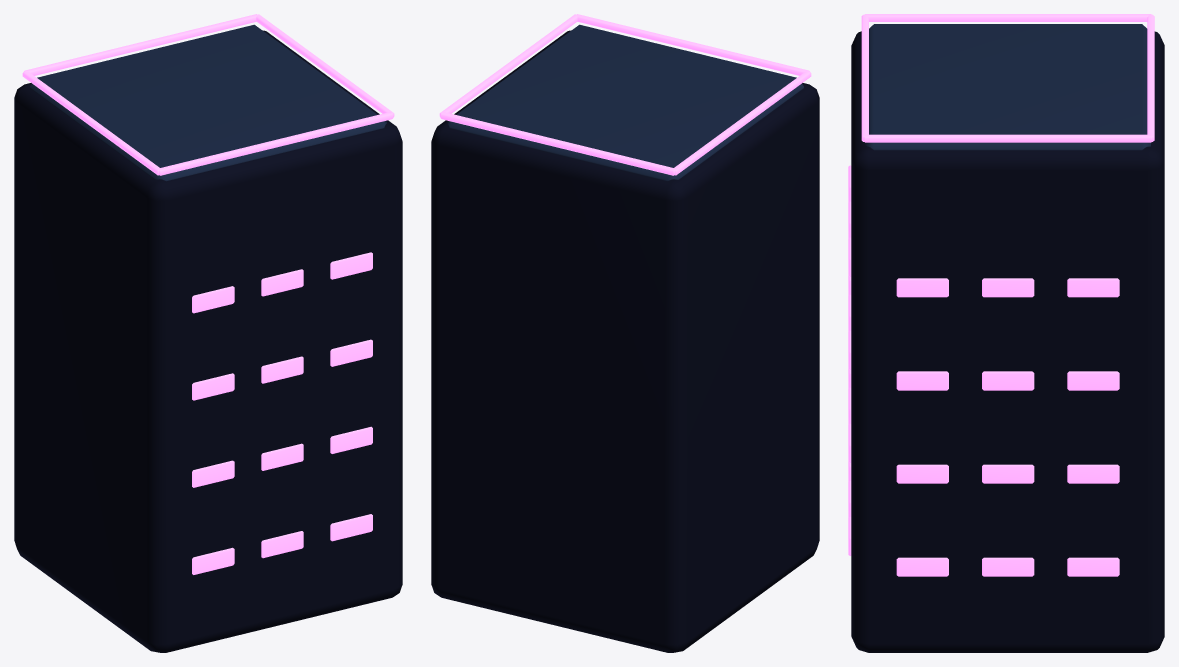
The model's file is NT_Backdrop_Block_Violet.fbx.
3 renders of one model, left to right at view 1: azimuth 30°, elevation 25°; view 2: azimuth 150°, elevation 25°; view 3: azimuth 270°, elevation 25°, orthographic. The views are drawn at different scales.
Visible parts, largest first — view 1: NT_Backdrop_Block_Violet__BackdropMesh; view 2: NT_Backdrop_Block_Violet__BackdropMesh; view 3: NT_Backdrop_Block_Violet__BackdropMesh.
Part boxes in pixels (<box>): NT_Backdrop_Block_Violet__BackdropMesh: <box>14,14,402,652</box>; NT_Backdrop_Block_Violet__BackdropMesh: <box>431,14,819,652</box>; NT_Backdrop_Block_Violet__BackdropMesh: <box>848,14,1164,652</box>.
Size of the model in its own units: 1.82 by 3.29 by 1.82.
